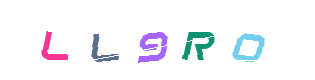9: (116, 0, 196, 80)
L: (11, 0, 91, 80), (112, 0, 192, 80)
O: (197, 0, 277, 80)
R: (123, 0, 203, 80)
